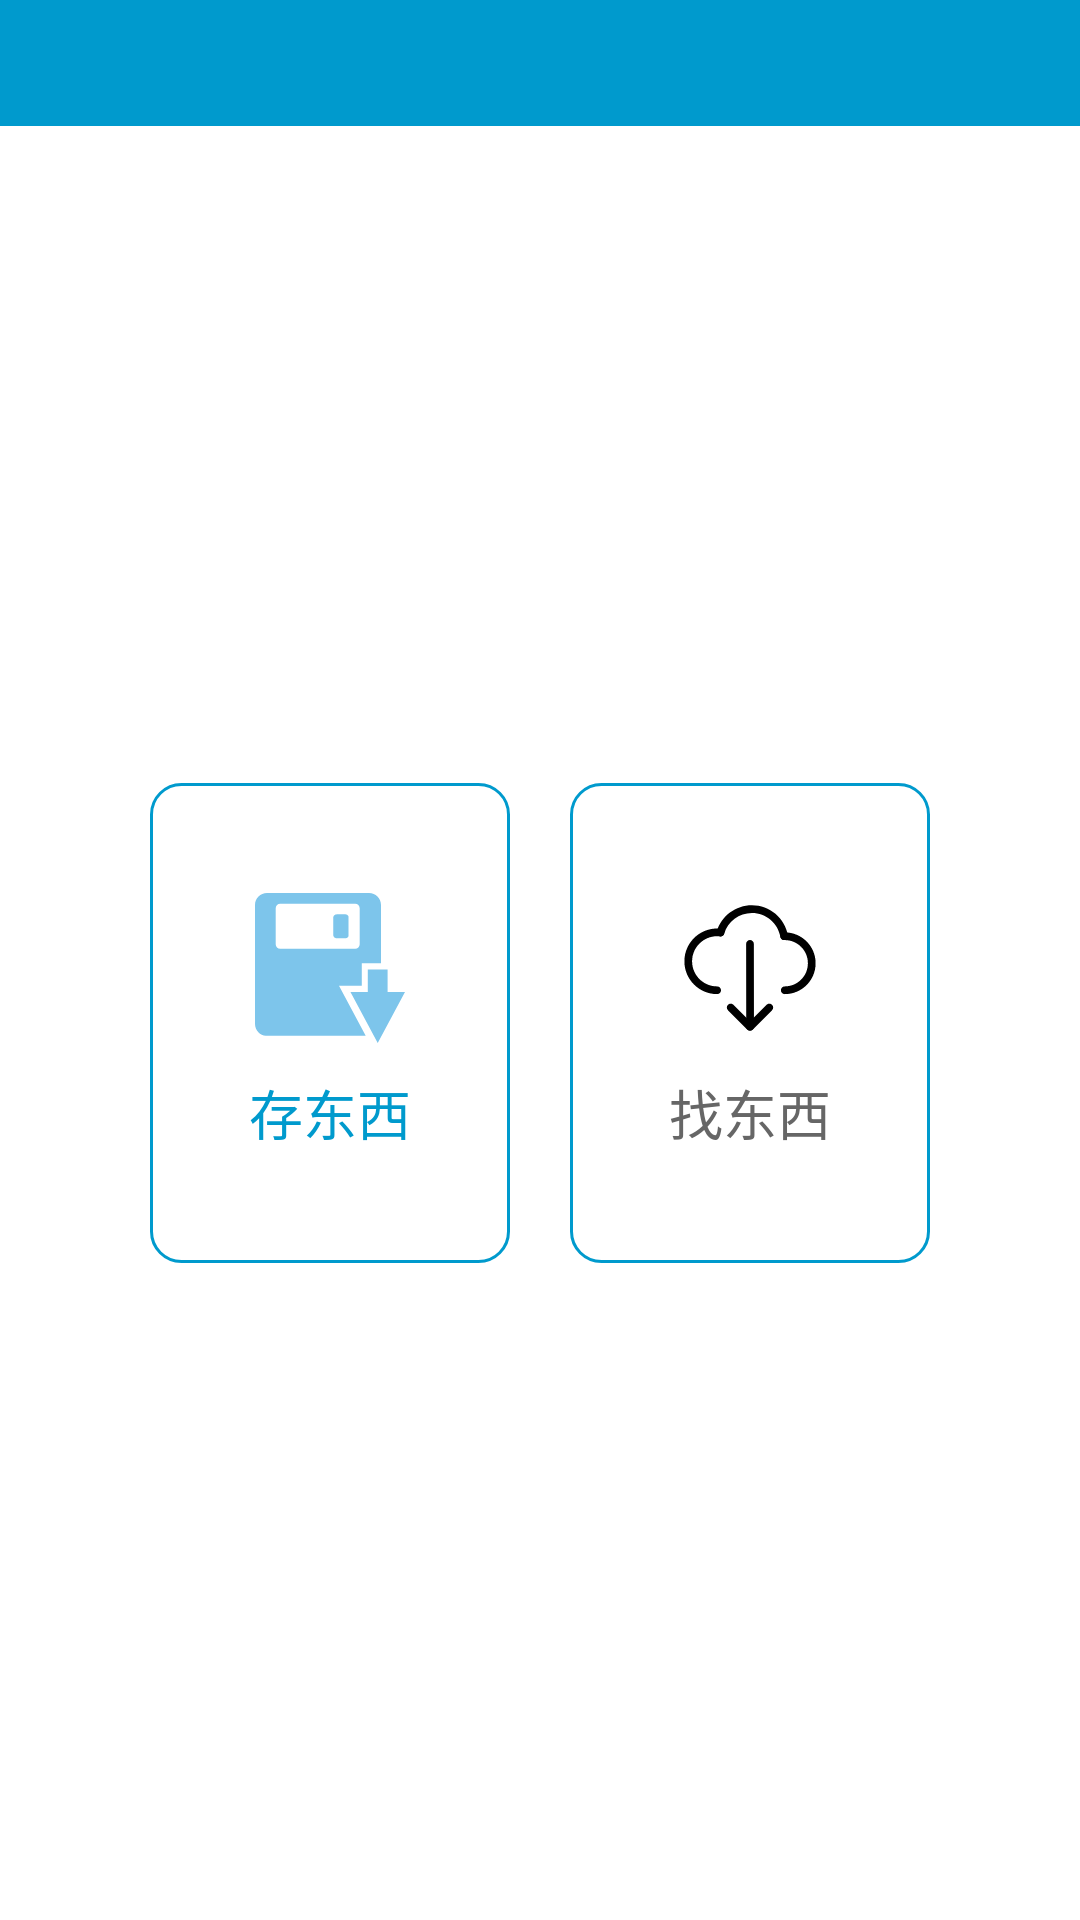

Point at icon controls on the screen. Image size 1080px×1920px, points as (x=x, y=y).
get: (x=750, y=968)
save: (x=330, y=968)
